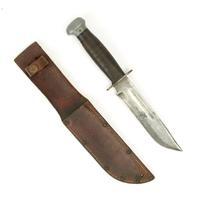knife: (13, 11, 183, 186)
